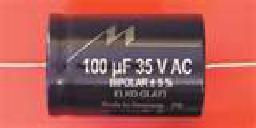Electrolytic-capacitor: (33, 10, 211, 123)
